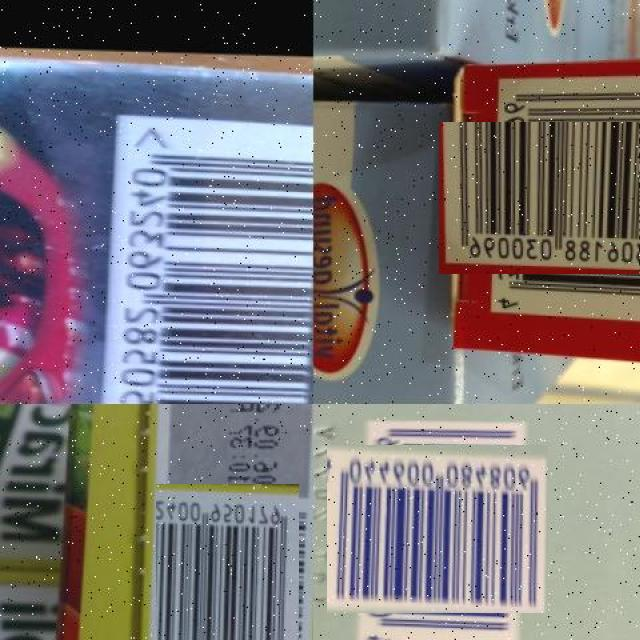Barcode: (104, 115, 313, 404), (340, 432, 535, 627), (463, 97, 640, 299), (149, 491, 305, 640)
